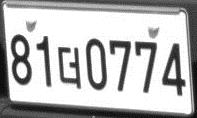0: (84, 38, 108, 90)
1: (32, 34, 57, 87)
4: (159, 41, 186, 96)
7: (134, 40, 158, 93), (108, 39, 132, 91)
8: (9, 33, 32, 84)
더: (56, 45, 82, 89)
